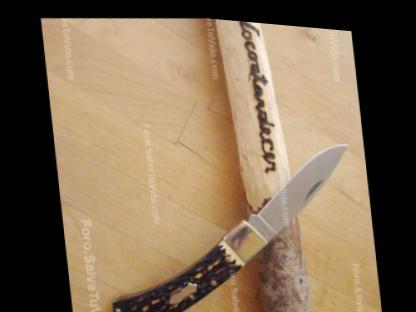knife: (209, 120, 368, 265)
